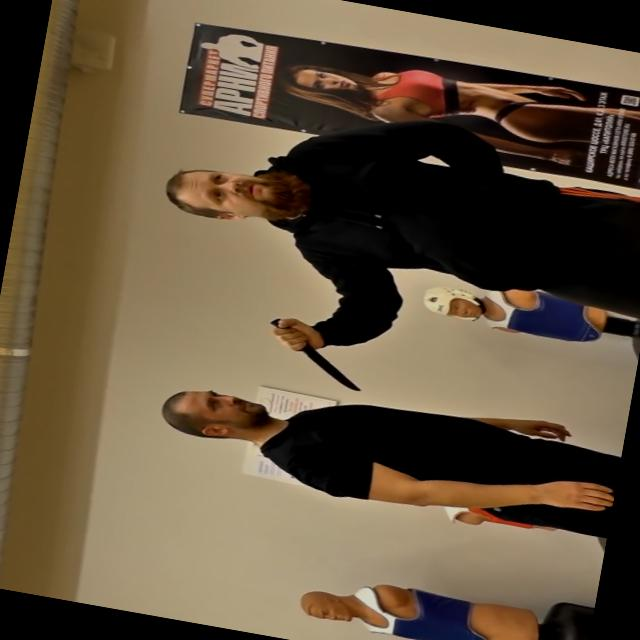knife: (258, 312, 374, 394)
